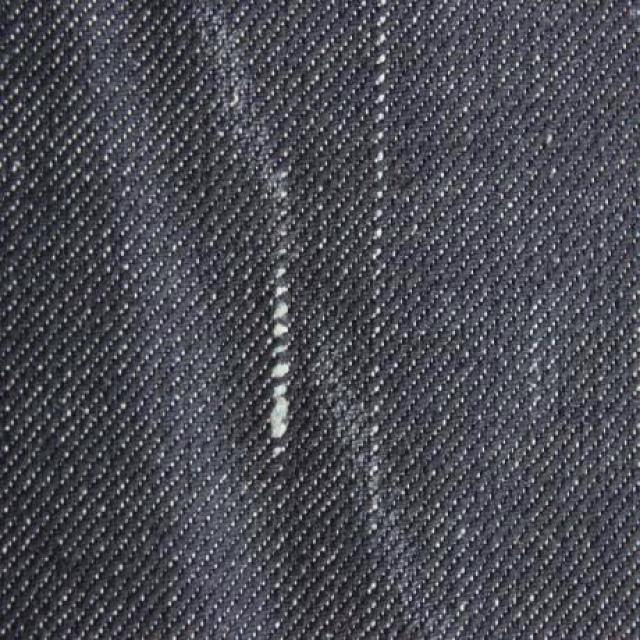stains: (350, 4, 432, 578), (188, 157, 316, 490)
